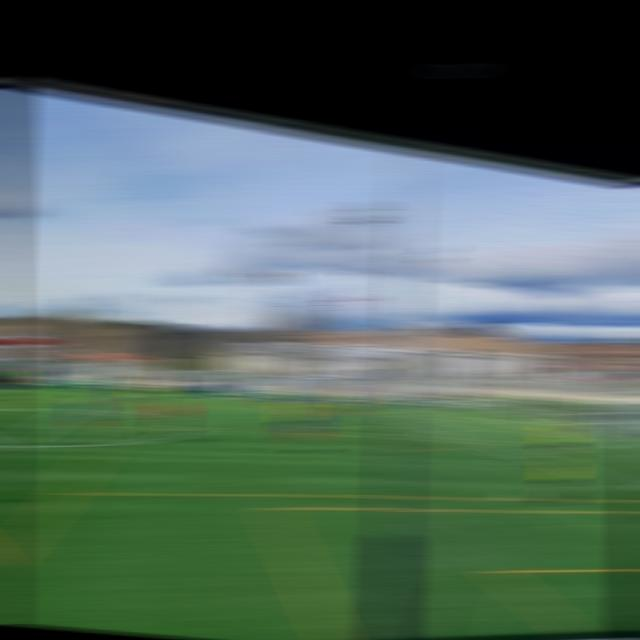bigarea_top_inner: (390, 407, 415, 425)
bigarea_top_outter: (513, 419, 534, 426)
bottom_arc_area_intersection: (526, 451, 551, 467)
halfcircle_bottom: (0, 436, 24, 454)
halfcircle_top: (63, 405, 88, 415)
midline_top_intersection: (100, 390, 122, 396)
smallarea_top_inner: (529, 428, 556, 438)
smallarea_top_outter: (574, 432, 597, 440)
top_arc_area_intersection: (436, 425, 461, 435)
